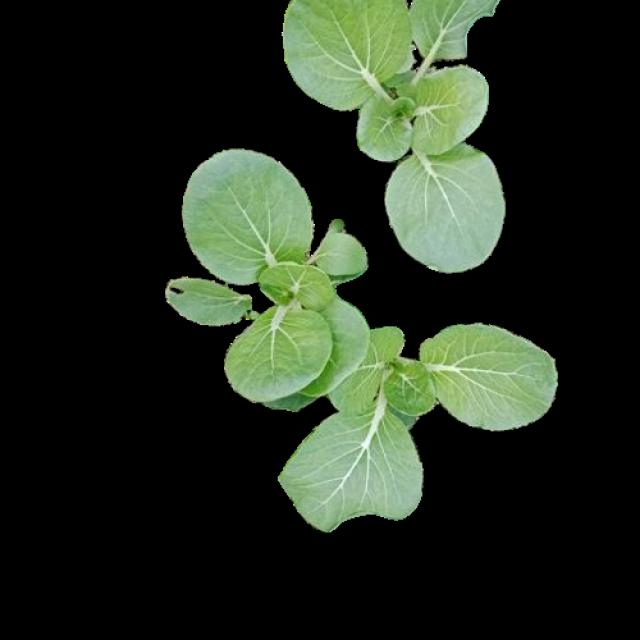healthy: (288, 4, 508, 271), (274, 323, 552, 526)
not-mature: (286, 1, 506, 269), (276, 325, 554, 529), (164, 146, 371, 410)
unhealthy: (164, 274, 243, 324)
